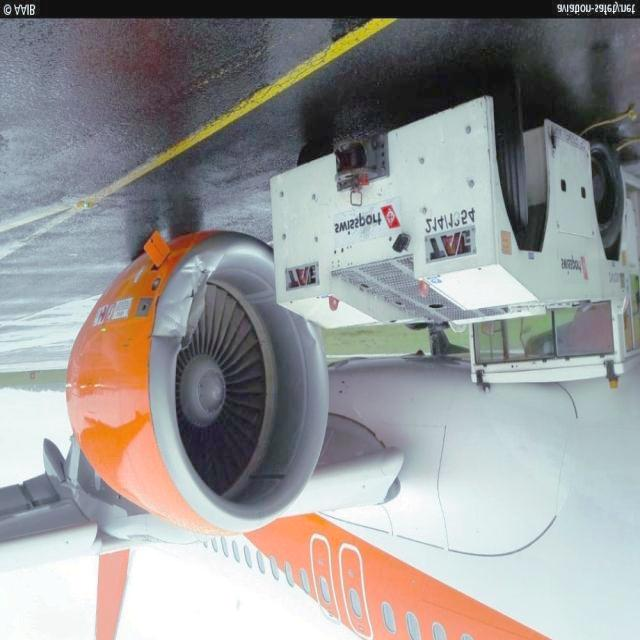crack: (180, 263, 210, 351)
dent: (152, 292, 188, 355), (298, 309, 333, 351), (182, 255, 206, 282)
